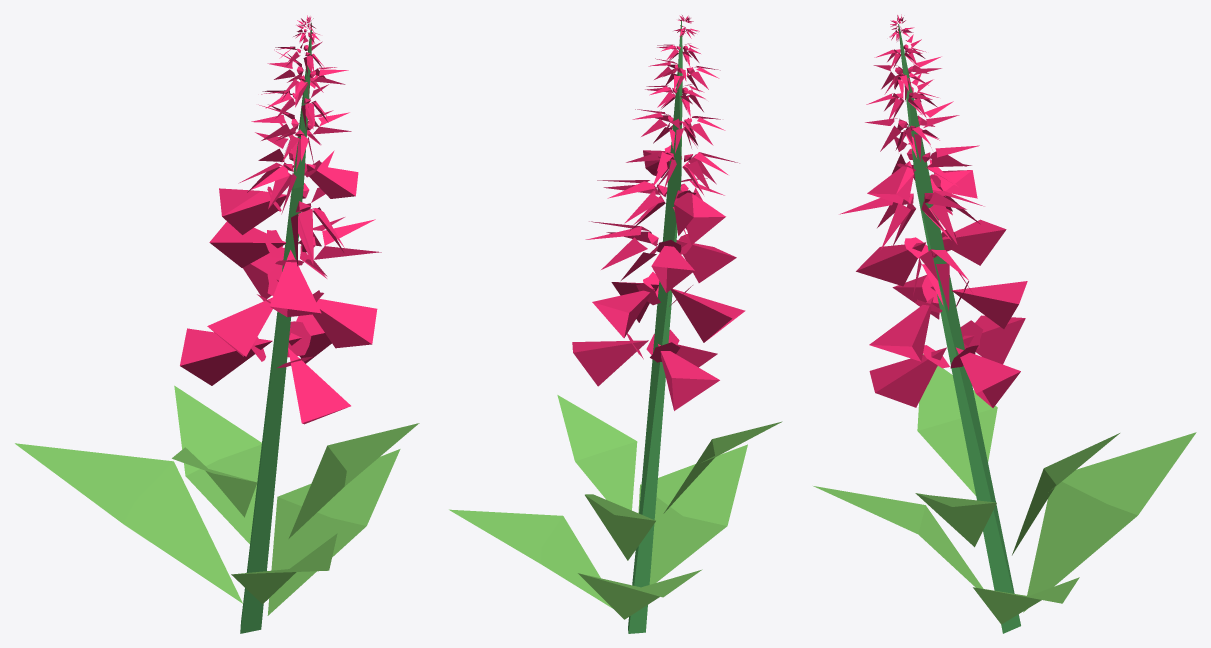
Rendered from fleur 5test.fbx.
3 views of the same model, side by side, from view 1: azimuth 30°, elevation 25°; view 2: azimuth 150°, elevation 25°; view 3: azimuth 270°, elevation 25° (orthographic). The views are drawn at different scales.
Visible parts, largest first — view 1: Flower.007; view 2: Flower.007; view 3: Flower.007.
Boxes of the visible parts, x1,y1,x2,y2 form: Flower.007: [15, 15, 419, 633]; Flower.007: [449, 15, 782, 633]; Flower.007: [813, 14, 1196, 633].
Size of the model in its own units: 162 by 322 by 183.
